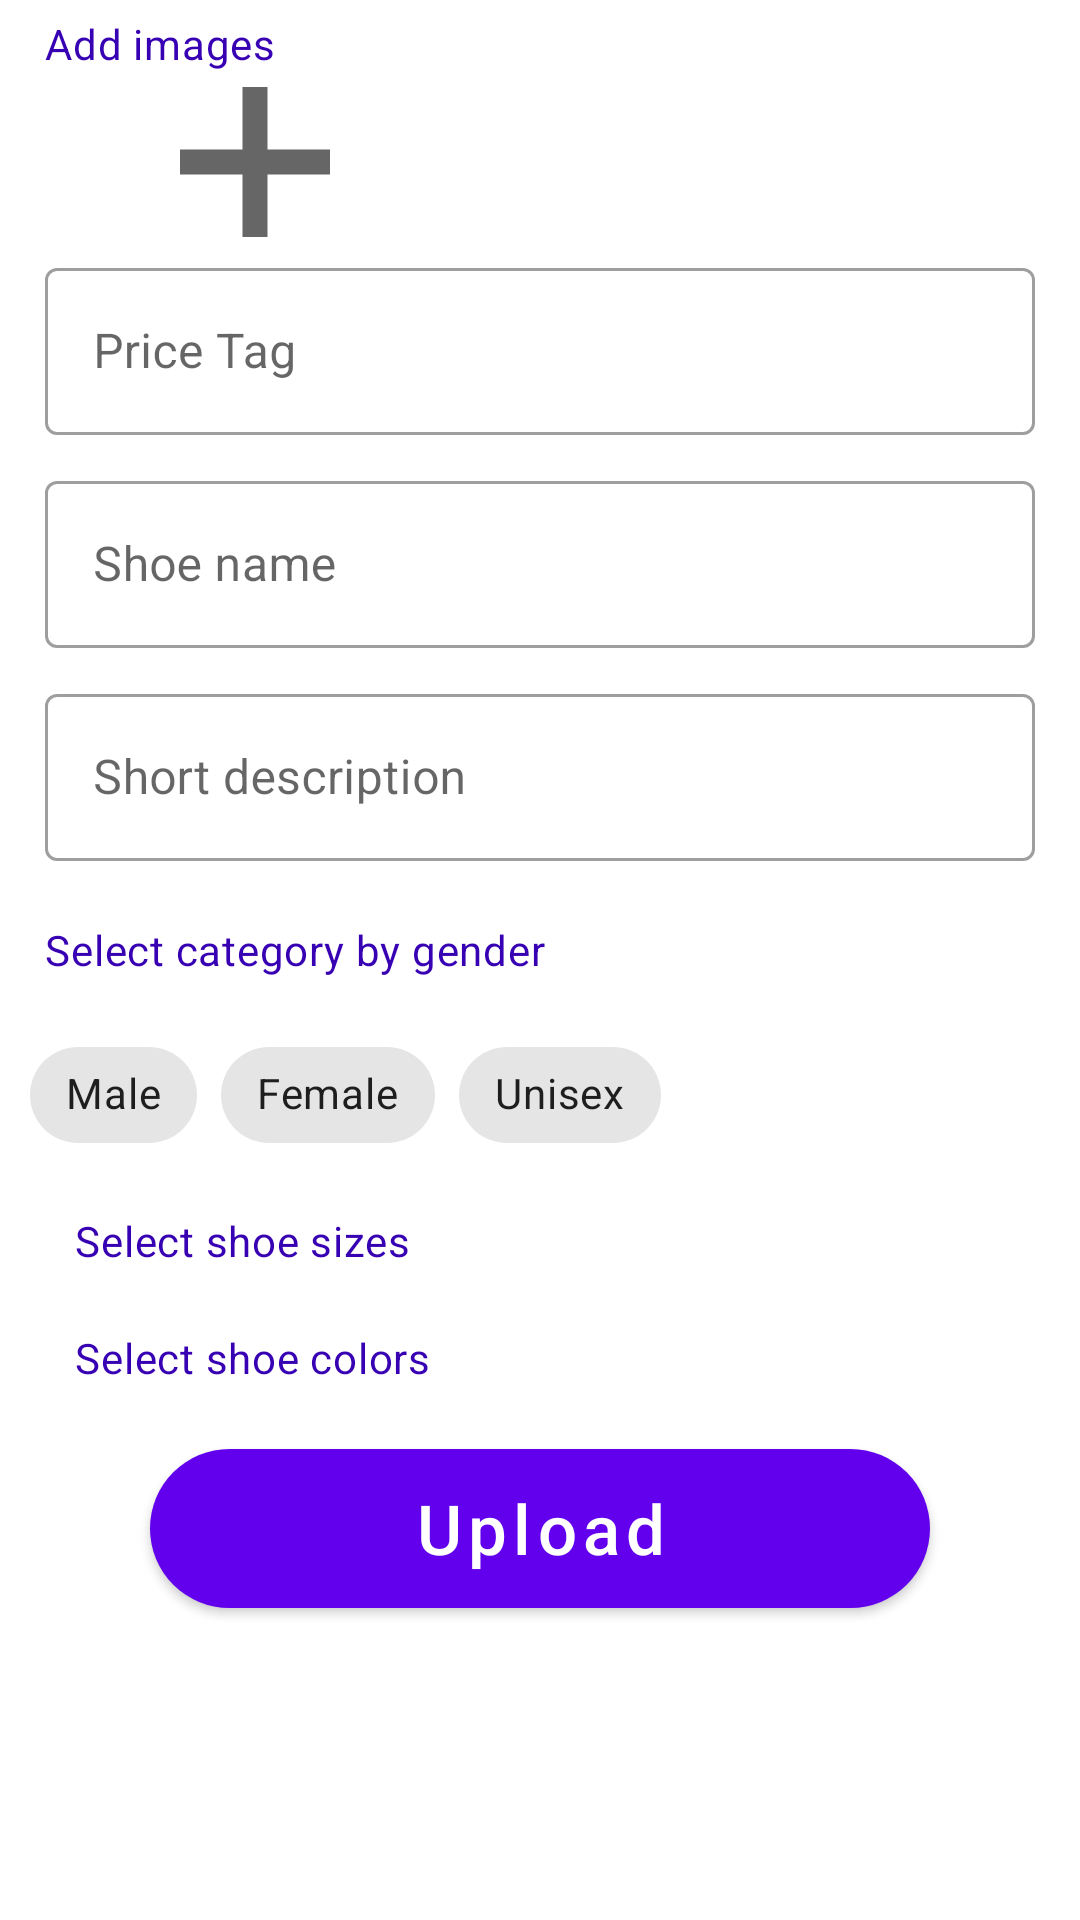

Where icons sit on this 1080px×1920px app screen, as (x1, y1, x2, y2):
add shoe: (180, 87, 330, 237)
